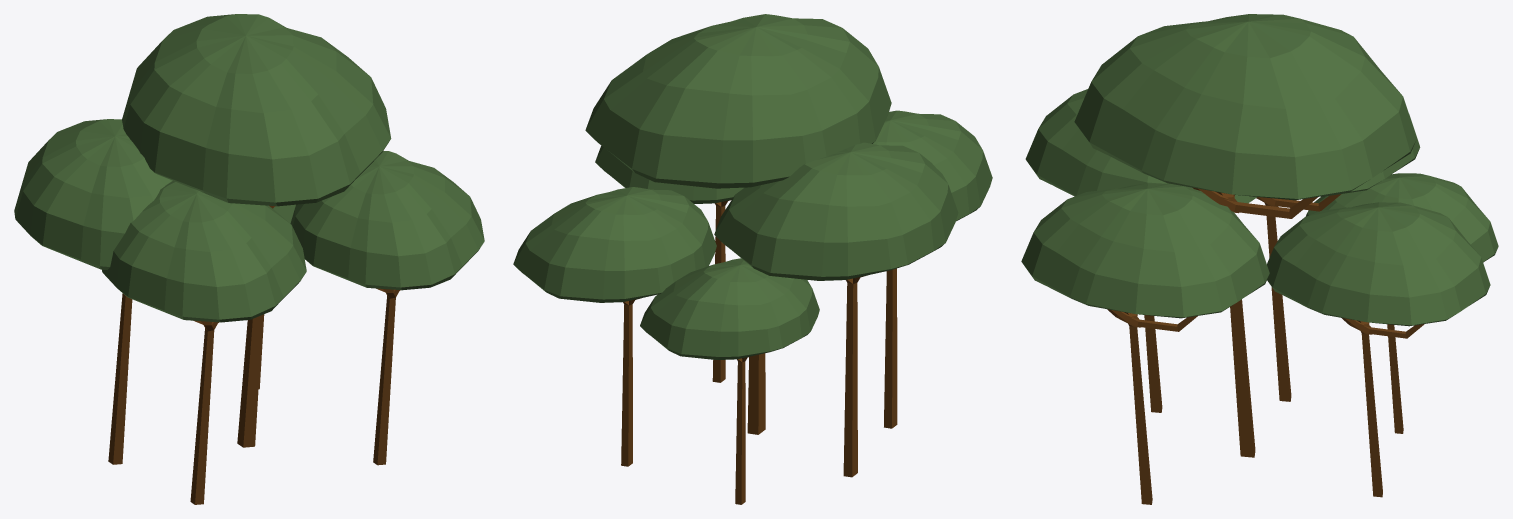
Rendered from Forest.fbx.
3 renders of one model, left to right at view 1: azimuth 30°, elevation 25°; view 2: azimuth 150°, elevation 25°; view 3: azimuth 270°, elevation 25°, orthographic. The views are drawn at different scales.
Parts seen in each view (by area): view 1: Sphere.013, Sphere.006, Sphere.012, Sphere.009, Cone.006, Cone.005, Cone.001, Cone.004; view 2: Sphere.013, Sphere.009, Sphere.011, Sphere.010, Sphere.006, Cone.001, Sphere.012, Cone.006, Cone.003, Cone.002, Cone.005, Cone.004; view 3: Sphere.013, Sphere.012, Sphere.011, Sphere.006, Sphere.010, Cone.005, Cone.004, Cone.001, Cone.003, Cone.006, Cone.002, Sphere.009.
Part boxes in pixels (x1=…): Sphere.013: x1=122, y1=14, x2=391, y2=206; Sphere.006: x1=102, y1=181, x2=306, y2=322; Sphere.012: x1=290, y1=151, x2=484, y2=290; Sphere.009: x1=14, y1=119, x2=172, y2=269; Cone.006: x1=190, y1=320, x2=218, y2=504; Cone.005: x1=237, y1=205, x2=275, y2=447; Cone.001: x1=108, y1=293, x2=132, y2=464; Cone.004: x1=373, y1=288, x2=400, y2=465; Sphere.013: x1=585, y1=14, x2=891, y2=188; Sphere.009: x1=714, y1=142, x2=958, y2=280; Sphere.011: x1=513, y1=187, x2=716, y2=302; Sphere.010: x1=640, y1=258, x2=819, y2=359; Sphere.006: x1=873, y1=110, x2=992, y2=221; Cone.001: x1=843, y1=275, x2=867, y2=477; Sphere.012: x1=595, y1=145, x2=743, y2=203; Cone.006: x1=884, y1=268, x2=897, y2=428; Cone.003: x1=621, y1=298, x2=641, y2=466; Cone.002: x1=735, y1=356, x2=752, y2=504; Cone.005: x1=747, y1=353, x2=765, y2=434; Cone.004: x1=712, y1=199, x2=731, y2=382; Sphere.013: x1=1074, y1=14, x2=1416, y2=200; Sphere.012: x1=1021, y1=183, x2=1269, y2=318; Sphere.011: x1=1267, y1=202, x2=1490, y2=326; Sphere.006: x1=1025, y1=89, x2=1257, y2=203; Sphere.010: x1=1305, y1=173, x2=1498, y2=262; Cone.005: x1=1192, y1=187, x2=1317, y2=457; Cone.004: x1=1107, y1=309, x2=1197, y2=504; Cone.001: x1=1256, y1=194, x2=1341, y2=401; Cone.003: x1=1342, y1=318, x2=1424, y2=497; Cone.006: x1=1144, y1=315, x2=1162, y2=412; Cone.002: x1=1387, y1=324, x2=1403, y2=433; Sphere.009: x1=1321, y1=114, x2=1420, y2=196.
Bounding box in the file's own units: 2.26 × 2.33 × 2.29.
